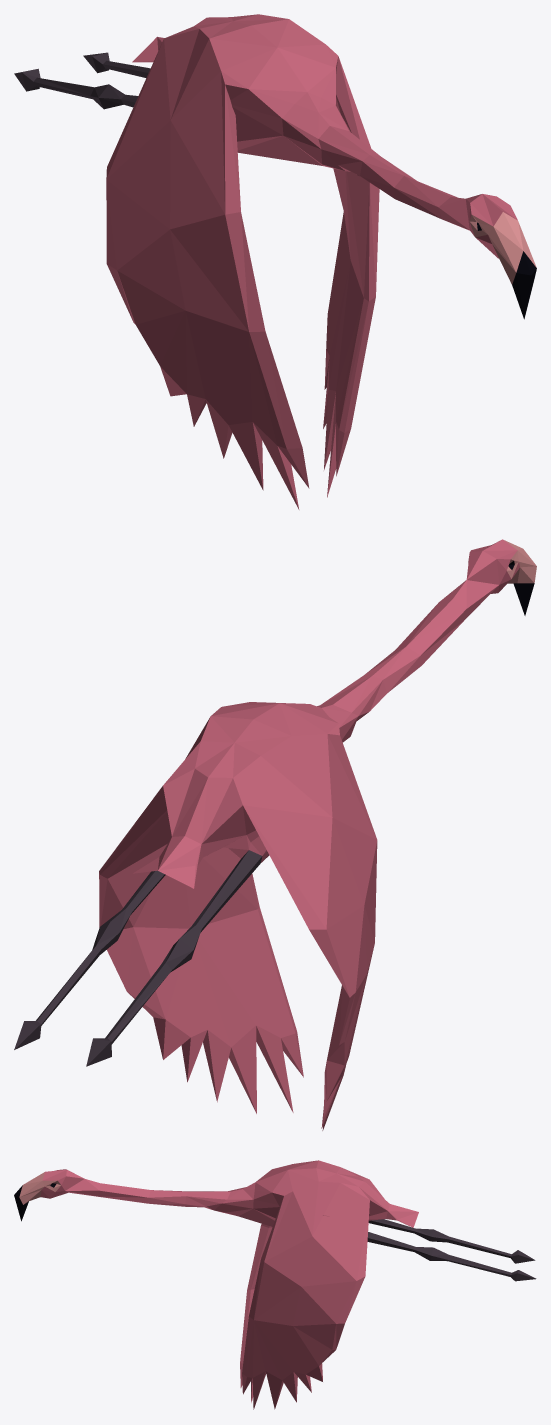
The model's file is flamingo.gltf.
3 views of the same model, one above another, from view 1: azimuth 30°, elevation 25°; view 2: azimuth 150°, elevation 25°; view 3: azimuth 270°, elevation 25° (orthographic). The views are drawn at different scales.
Parts seen in each view (by area): view 1: Object_0; view 2: Object_0; view 3: Object_0.
Boxes of the visible parts, x1,y1,x2,y2 form: Object_0: (14,14,536,509); Object_0: (14,539,536,1130); Object_0: (14,1160,536,1409).
Size of the model in its own units: 1.57 by 2.67 by 5.3.
